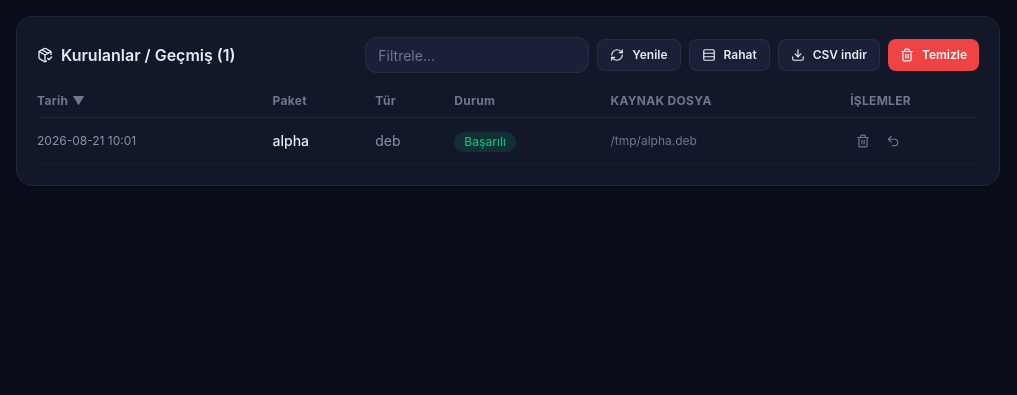
Installed — Faz 19b kapsam dalları › filtre hiçbiriyle eşleşmezse boş durum gösterilir
Expected: the text "alpha" is shown, [272, 118, 375, 164]
Type "yokboyle" into the field with placeholder "Filtrele…". click: (477, 55)
box: [365, 37, 589, 73]
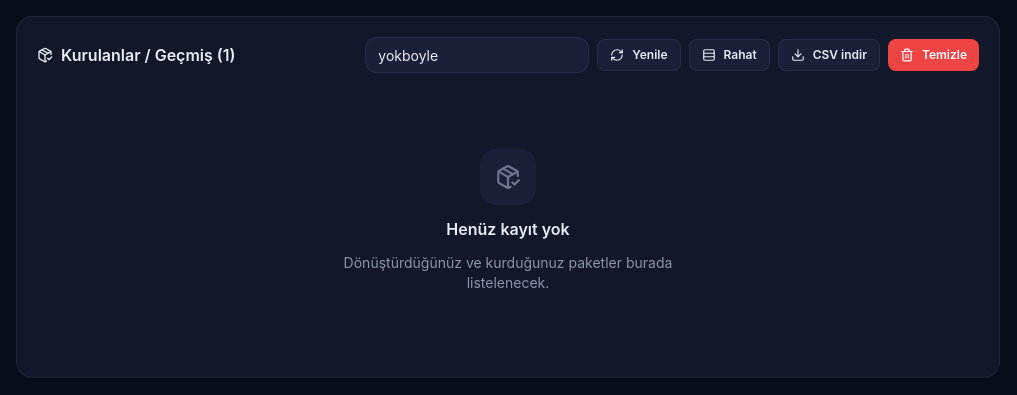
Now the heading "Henüz kayıt yok" is shown, box [446, 217, 570, 241]
